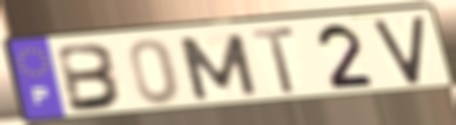0: (126, 36, 184, 107)
2: (315, 22, 377, 91)
B: (55, 42, 127, 115)
M: (174, 31, 262, 103)
T: (249, 25, 299, 97)
V: (370, 13, 426, 87)
